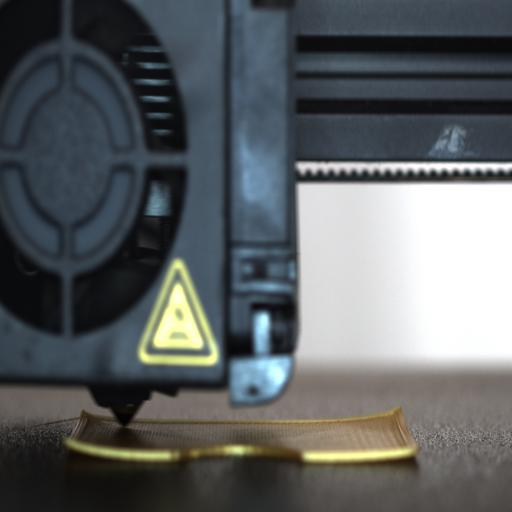warp: (391, 442, 428, 468), (55, 436, 86, 462), (386, 402, 408, 428)
